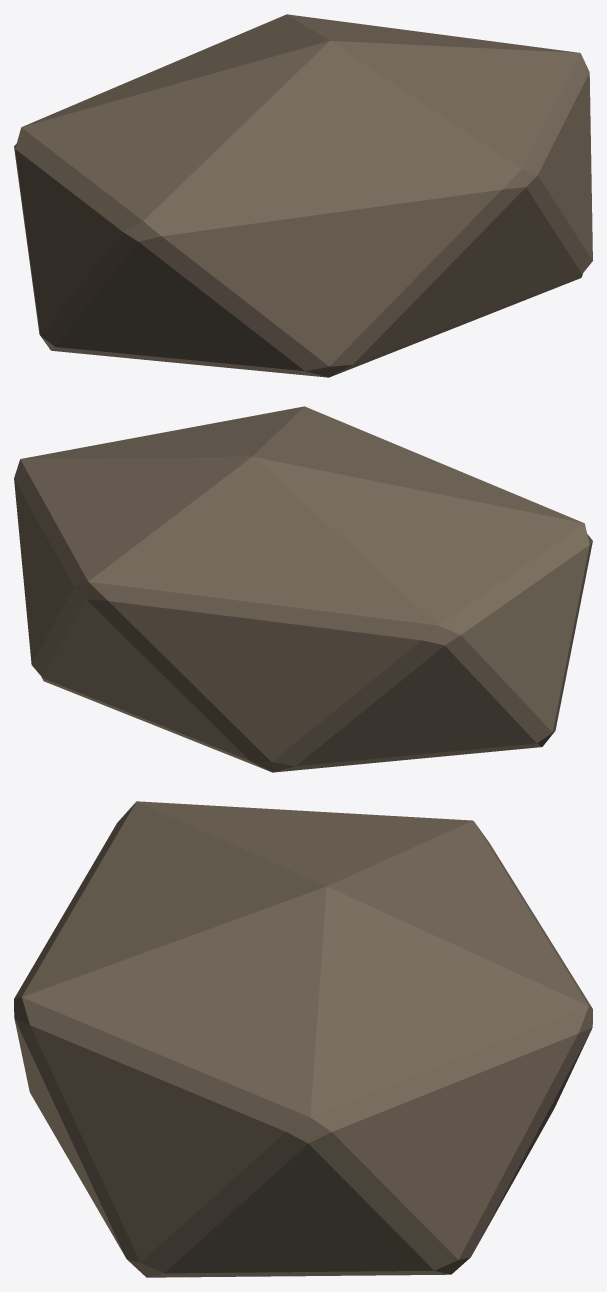
The picture shows the model from 3 angles, top to bottom: view 1: azimuth 30°, elevation 25°; view 2: azimuth 150°, elevation 25°; view 3: azimuth 270°, elevation 25°; orthographic projection. The views are drawn at different scales.
Visible parts, largest first — view 1: LowPolyRock_0; view 2: LowPolyRock_0; view 3: LowPolyRock_0.
Boxes of the visible parts, left/top/right/bottom form: LowPolyRock_0: left=14, top=14, right=592, bottom=377; LowPolyRock_0: left=14, top=406, right=592, bottom=772; LowPolyRock_0: left=14, top=801, right=592, bottom=1277.
Bounding box in the file's own units: 2.3 × 1.05 × 1.7.
